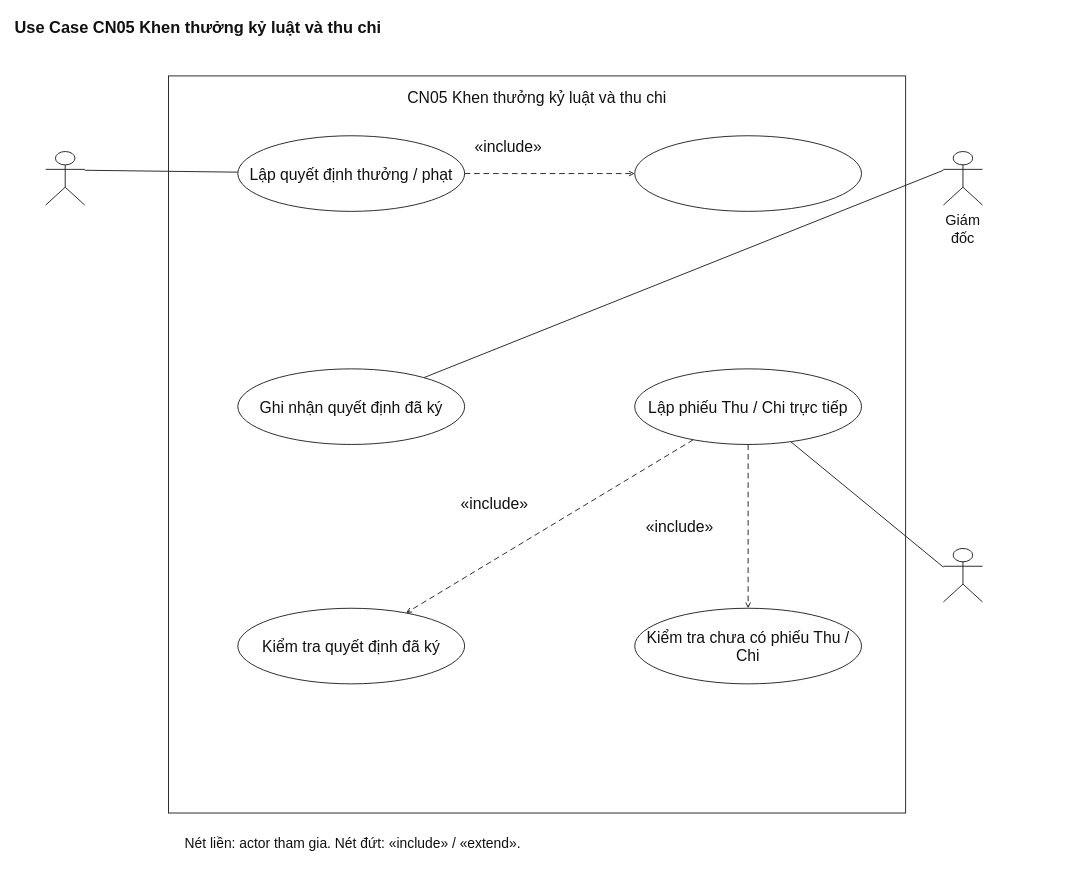
Image size: 1067x874. Some labels were removed from this diagram. Here are the shapes that lost their labels. From the top down, the centre of each, then its label:
At (x=65, y=178): "Nhân sự".
At (x=748, y=173): "Kiểm tra đúng một đối tượng".
At (x=963, y=575): "Kế toán".
